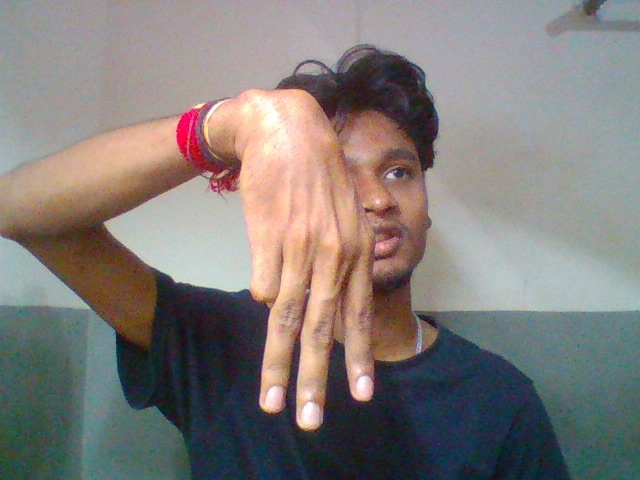M: (206, 85, 399, 449)
